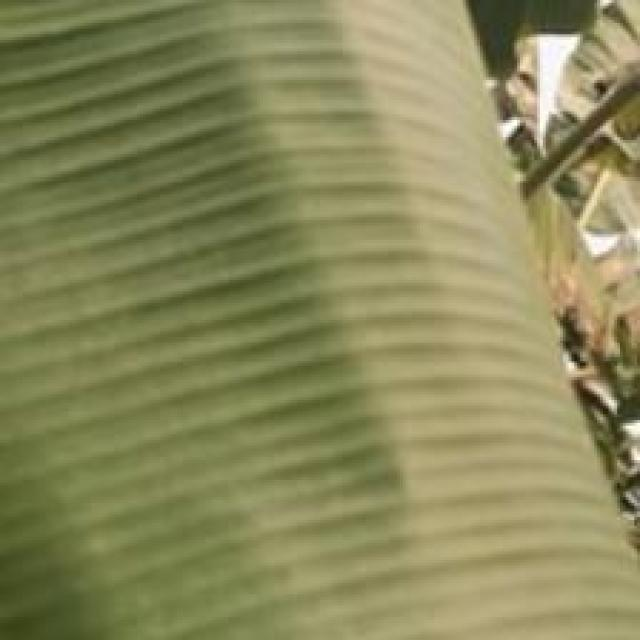Black_leaf_spot: (0, 0, 575, 623)
